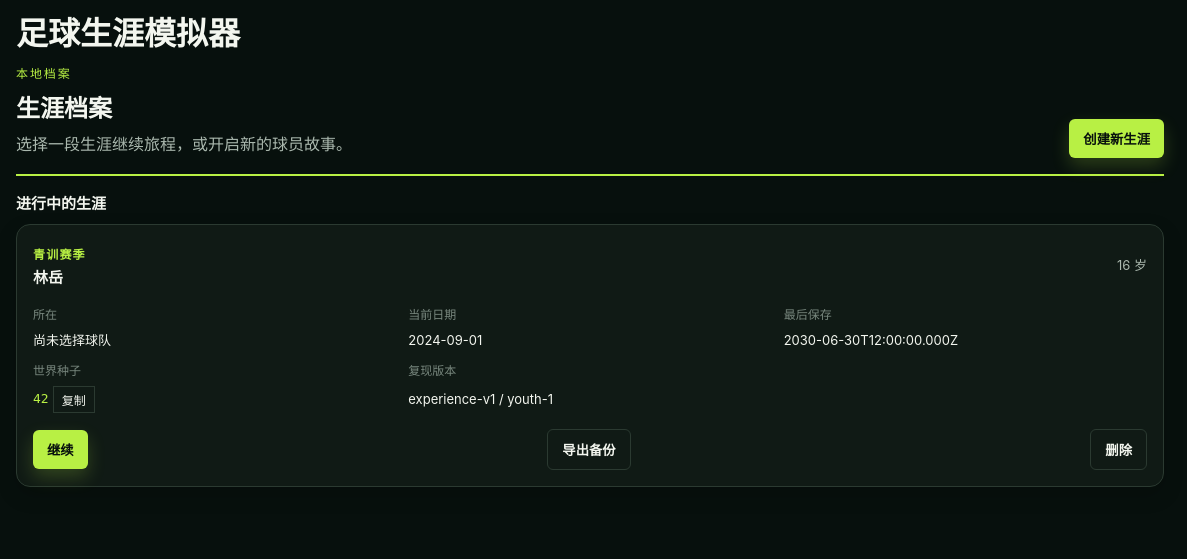
App › keeps the archive visible when committing a restored season outcome fails
Click the button with aria-label "继续林岳的生涯". click: x=60, y=449
box: [33,430,88,468]
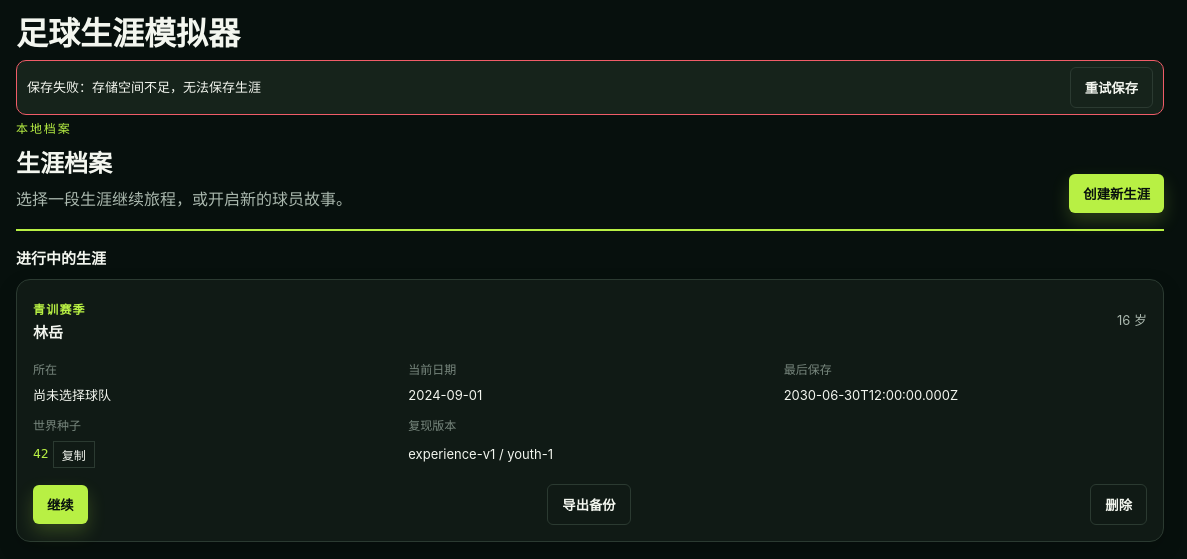
Expected: the message shows "保存失败", [27,79,261,95]
